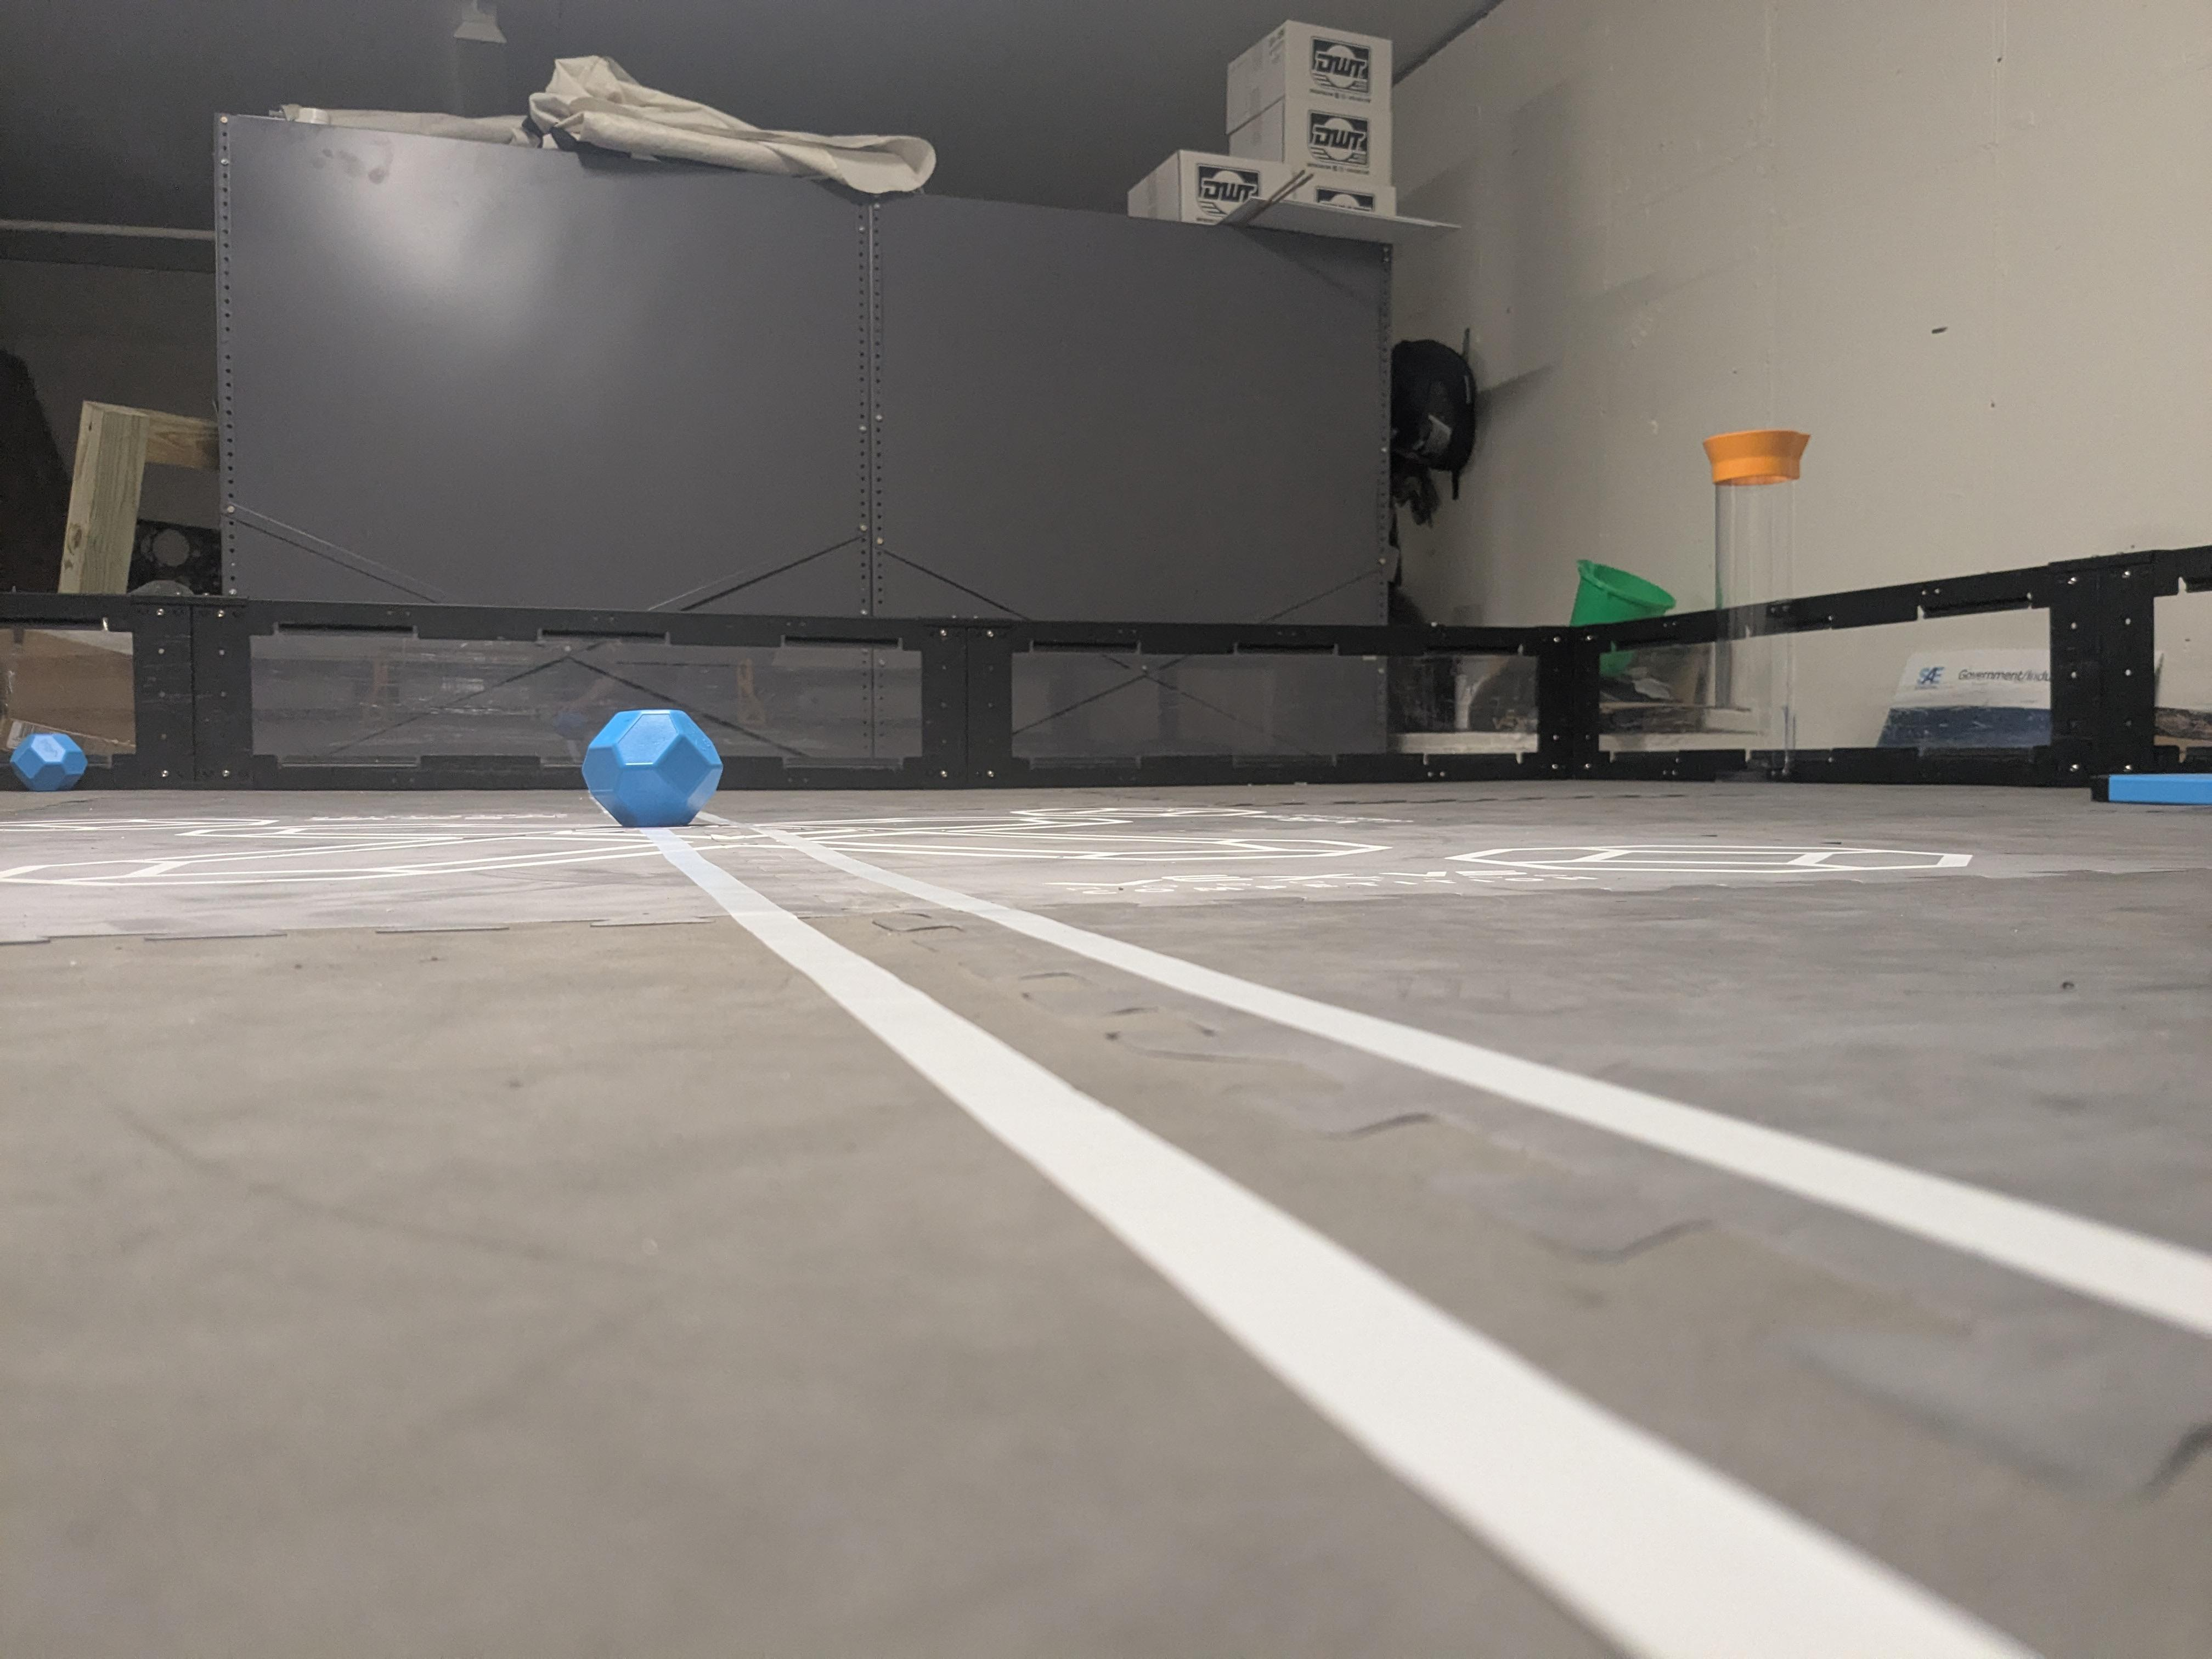Vex-Pieces-BLUE: (583, 713, 723, 824), (9, 734, 78, 788)
